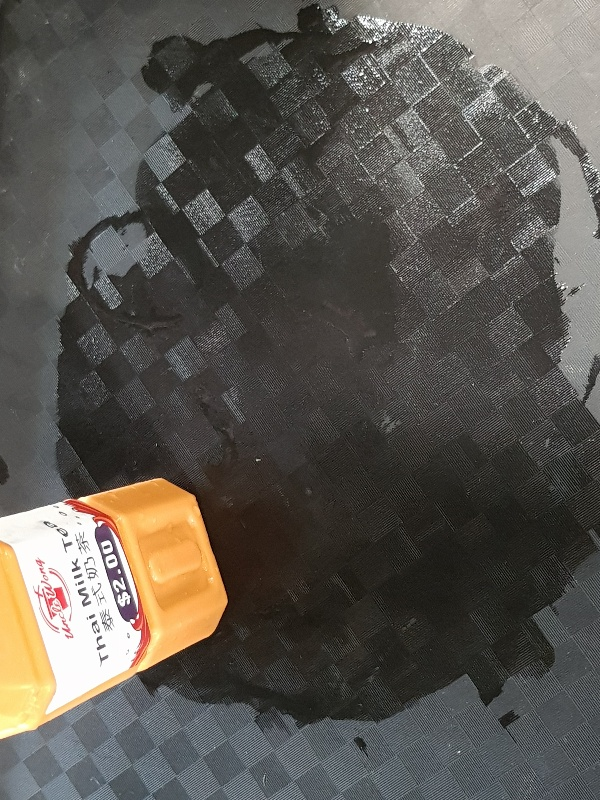Thai Milk Tea: (1, 474, 228, 741)
